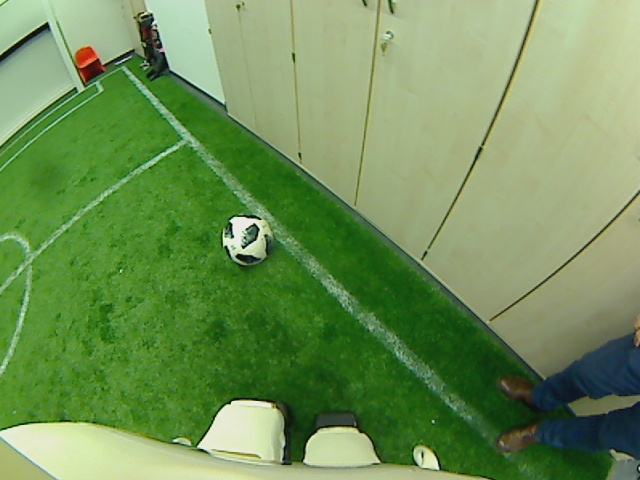ball: (221, 211, 272, 265)
